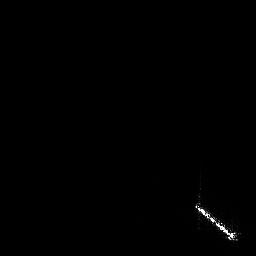ship: (194, 188, 240, 242)
